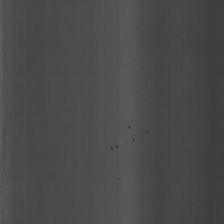oil_spot: (106, 117, 151, 155)
